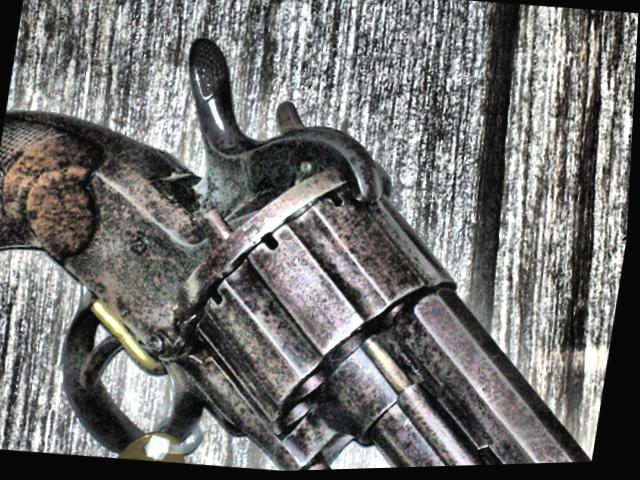pistol: (0, 12, 639, 480)
